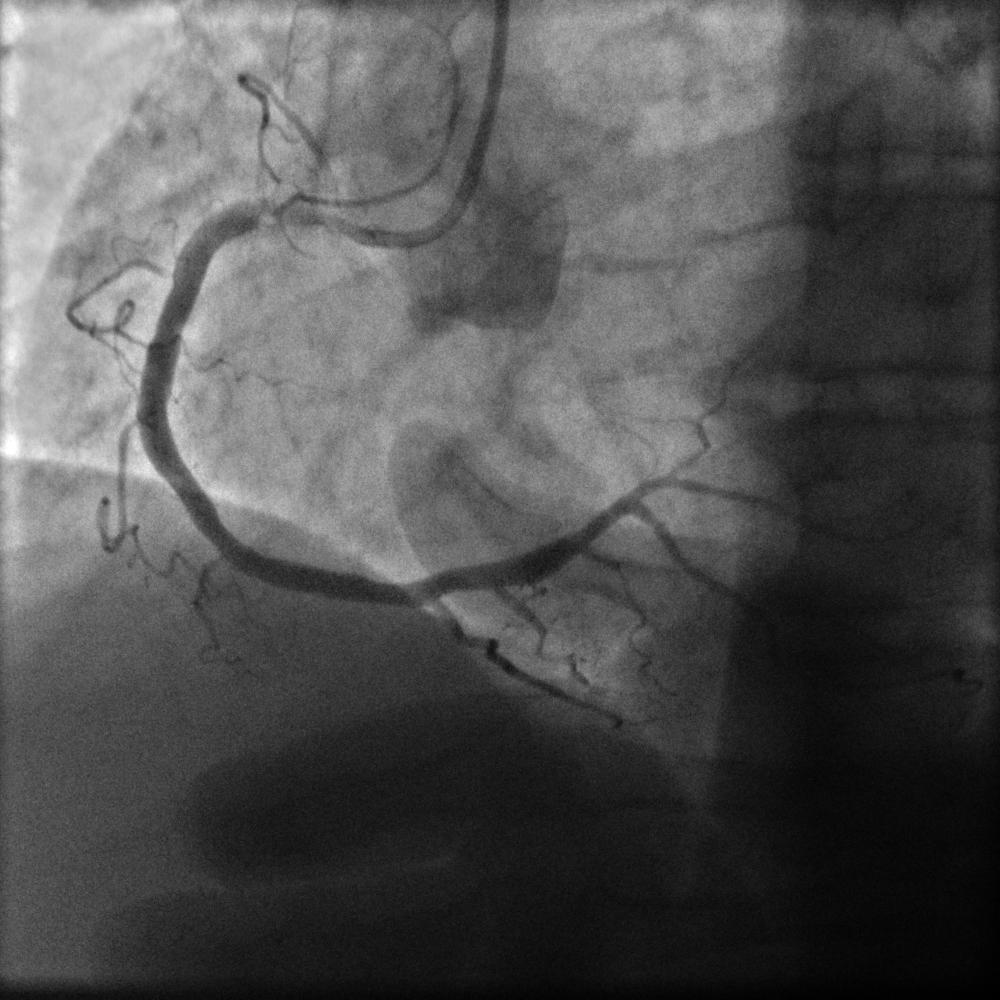Stenosis: (237, 186, 319, 237)
